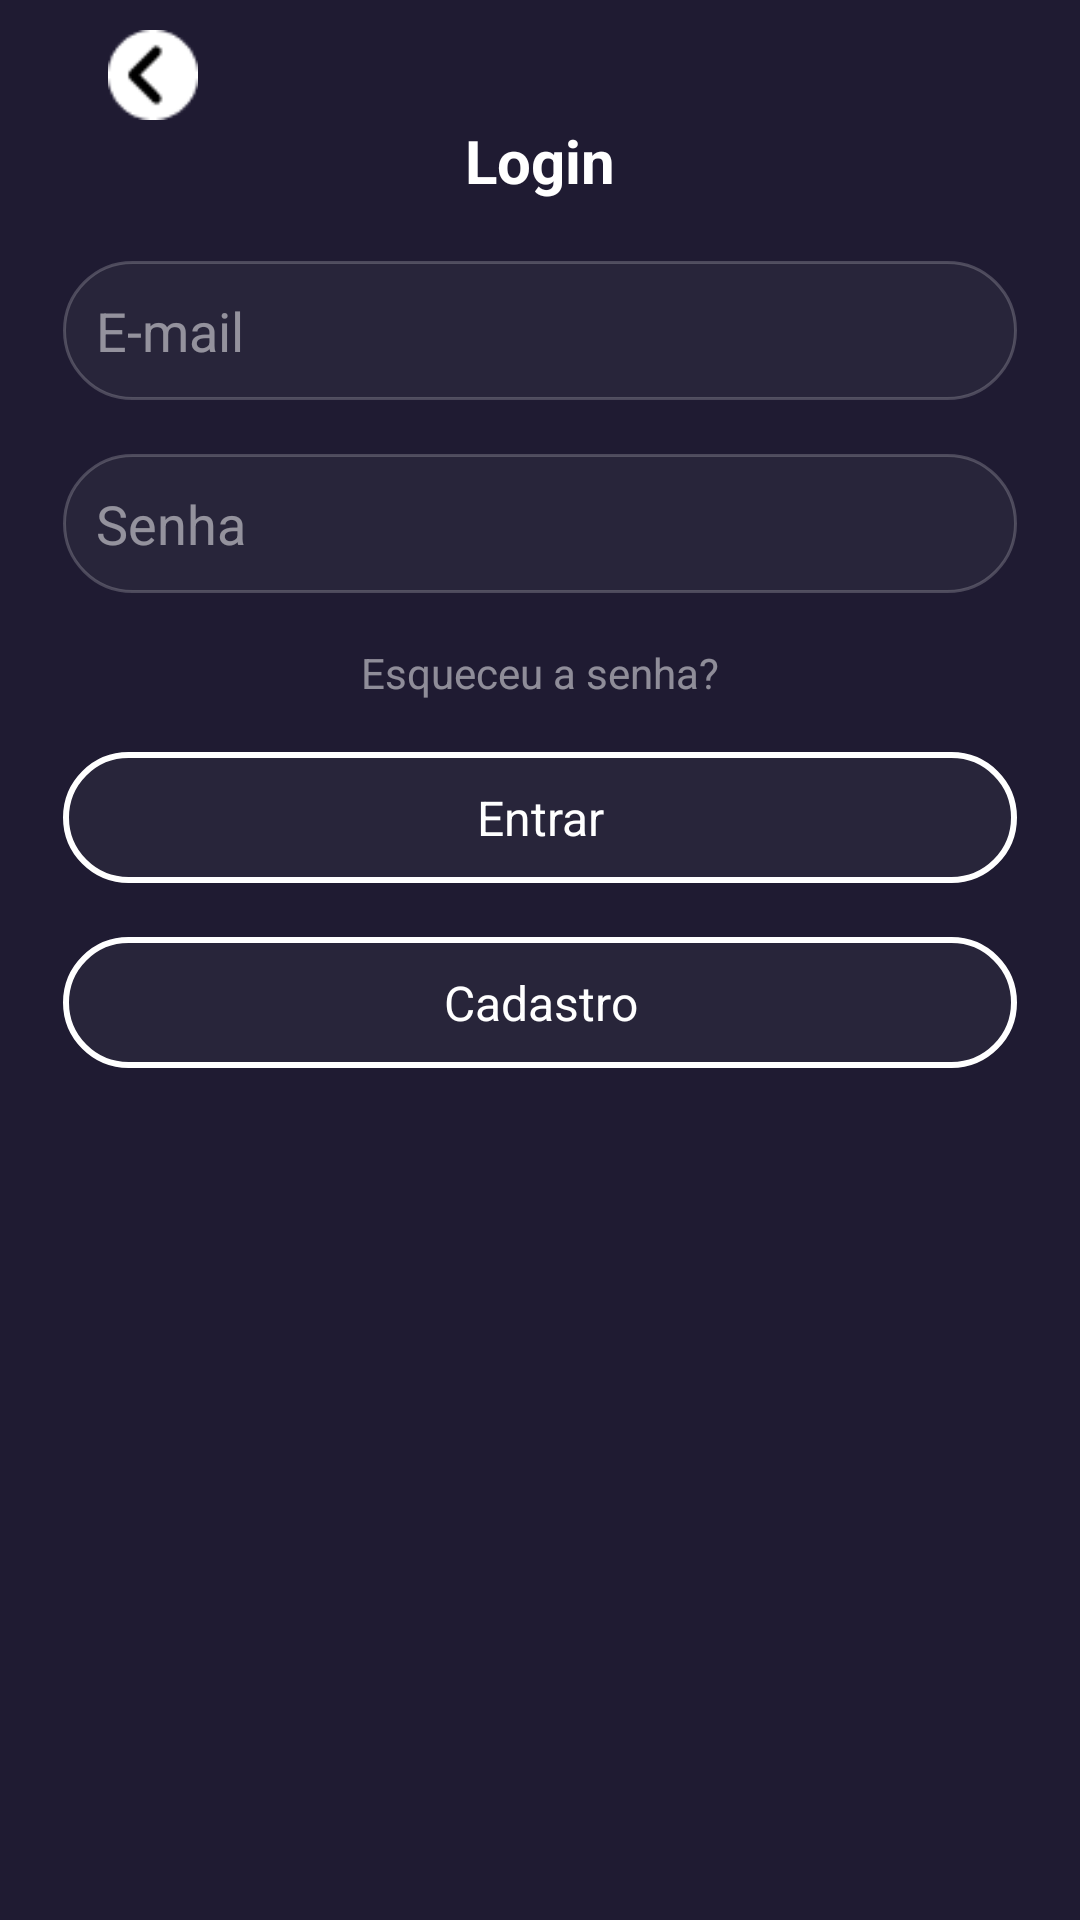

Locate icon controls on the screen. Image size 1080px×1920px, boxes as [x1,y1,x2,y2].
back: [108,30,198,120]
